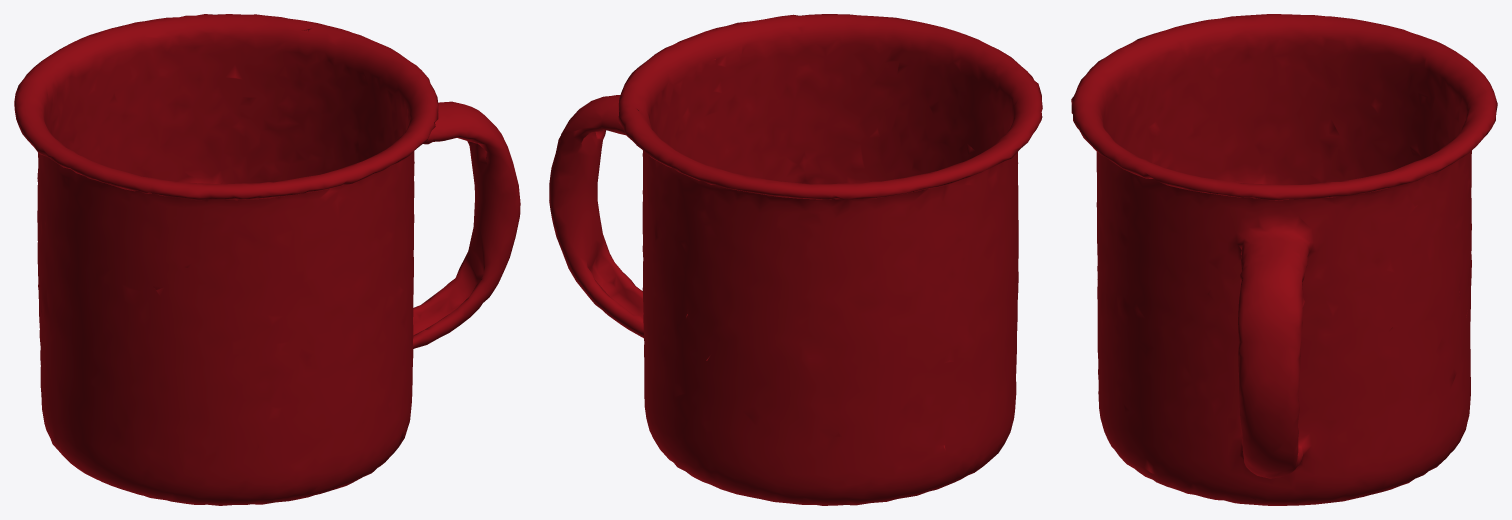
3 renders of one model, left to right at view 1: azimuth 30°, elevation 25°; view 2: azimuth 150°, elevation 25°; view 3: azimuth 270°, elevation 25°, orthographic.
Visible parts, largest first — view 1: nontextured; view 2: nontextured; view 3: nontextured.
Part boxes in pixels (x1=…): nontextured: x1=14, y1=14, x2=520, y2=505; nontextured: x1=549, y1=14, x2=1042, y2=505; nontextured: x1=1071, y1=14, x2=1497, y2=505.
Bounding box in the file's own units: 0.117 × 0.0931 × 0.0813.
